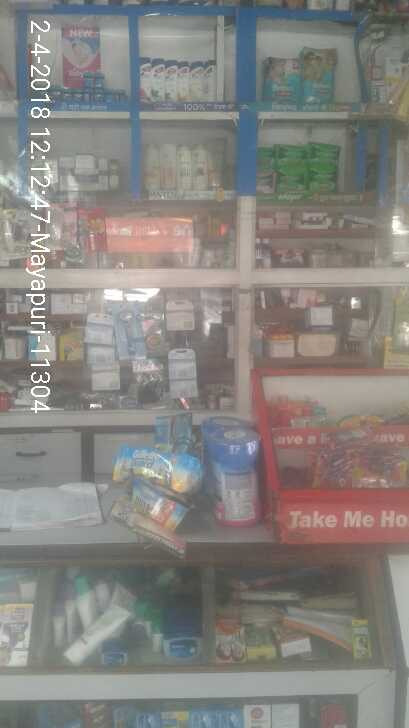vicks: (41, 66, 133, 101)
